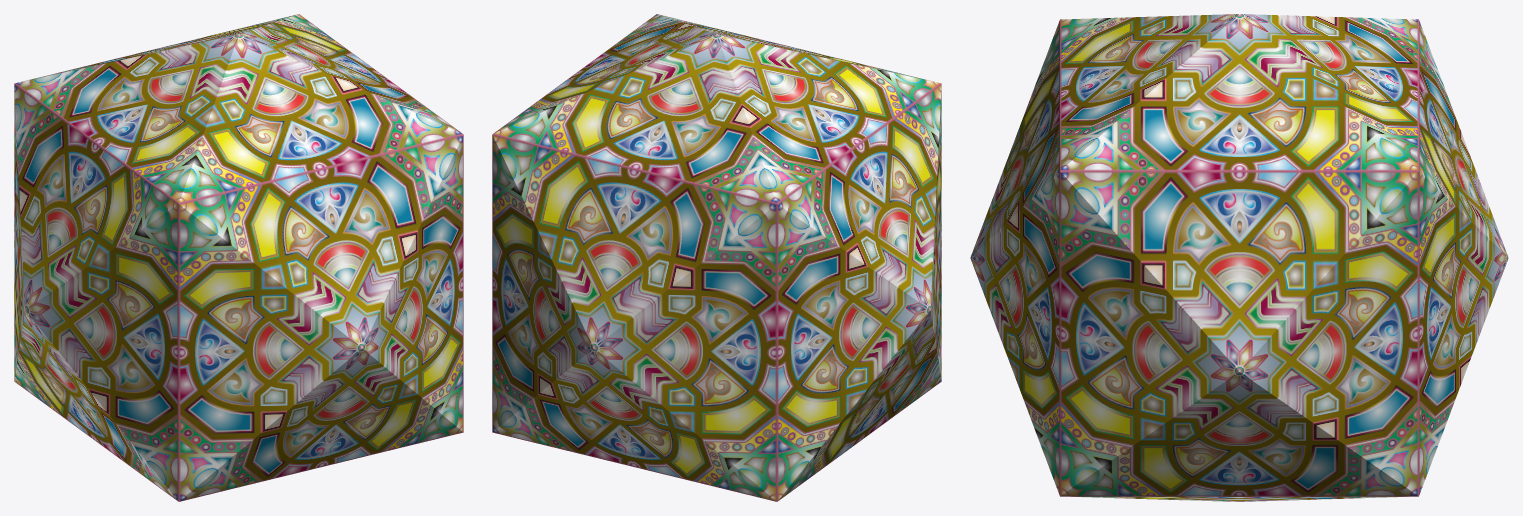
Rendered from 6TetrakisHexahedron.obj.
3 renders of one model, left to right at view 1: azimuth 30°, elevation 25°; view 2: azimuth 150°, elevation 25°; view 3: azimuth 270°, elevation 25°, orthographic. The views are drawn at different scales.
Size of the model in its own units: 3.18 by 3.18 by 3.18.
Materials: 1 (1 with a texture image).
